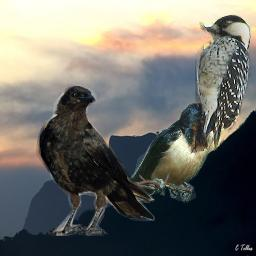Crow: (36, 84, 155, 236)
Swallow: (93, 102, 225, 206)
Woodpecker: (195, 14, 251, 151)
